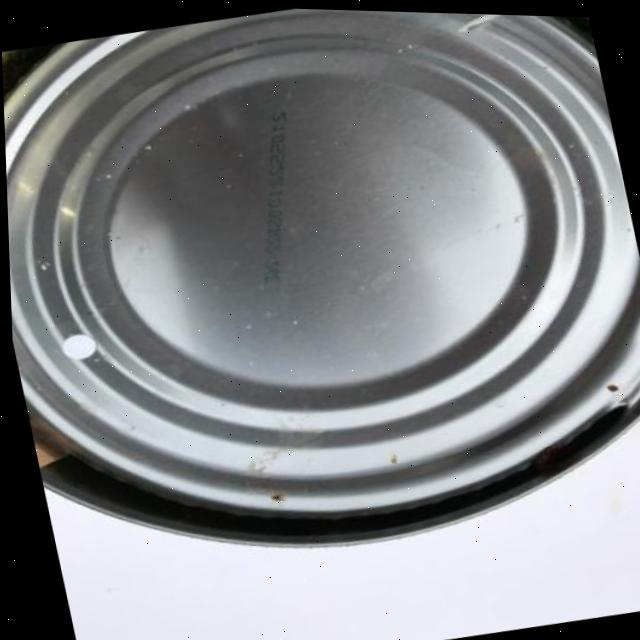Dry: (0, 0, 640, 606)
